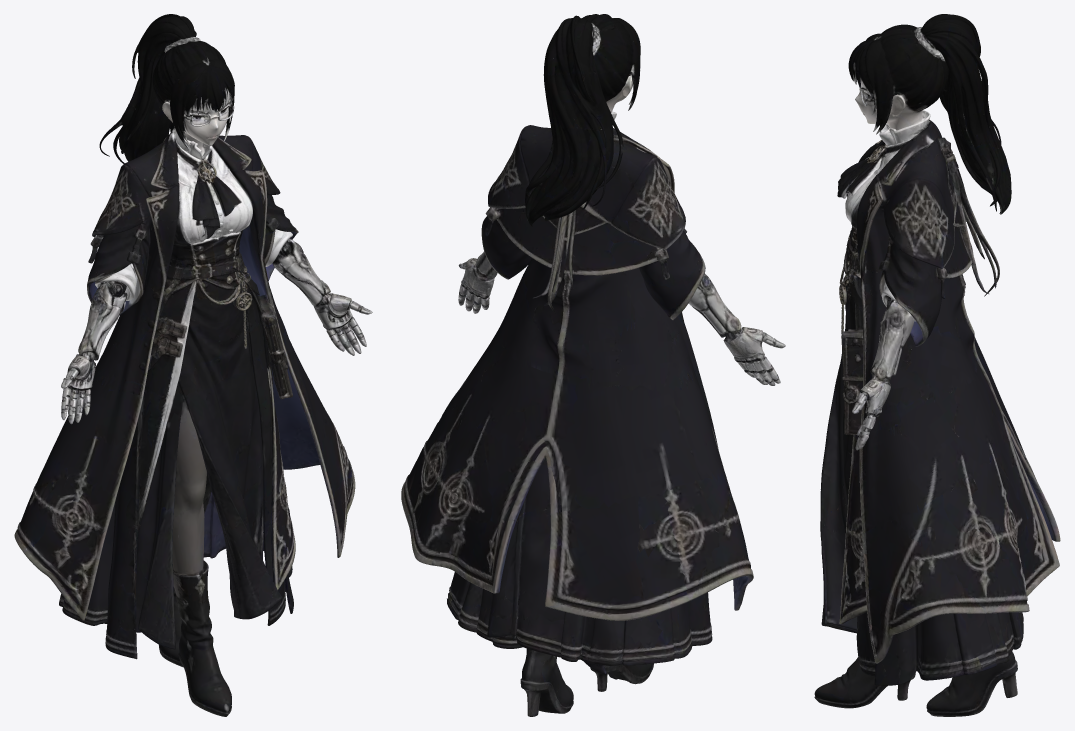
File: jennifermodel.glb
3 views of the same model, side by side, from view 1: azimuth 30°, elevation 25°; view 2: azimuth 150°, elevation 25°; view 3: azimuth 270°, elevation 25° (orthographic). The views are drawn at different scales.
Size of the model in its own units: 0.9964 by 1.9 by 0.6126.
1 material, 1 textured.
